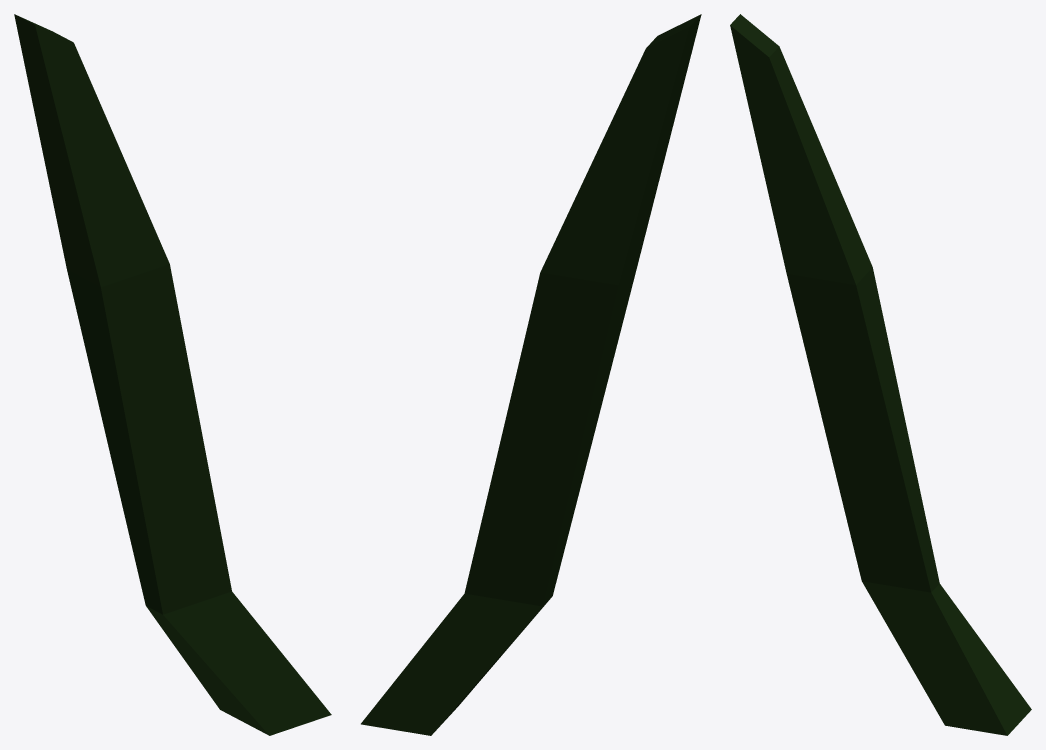
File: g3-green.obj
3 views of the same model, side by side, from view 1: azimuth 30°, elevation 25°; view 2: azimuth 150°, elevation 25°; view 3: azimuth 330°, elevation 25° (orthographic). The views are drawn at different scales.
Parts seen in each view (by area): view 1: g3-green_Cube.006; view 2: g3-green_Cube.006; view 3: g3-green_Cube.006.
Boxes of the visible parts, x1,y1,x2,y2 form: g3-green_Cube.006: [14, 14, 331, 735]; g3-green_Cube.006: [361, 14, 701, 735]; g3-green_Cube.006: [730, 14, 1031, 735].
Size of the model in its own units: 0.8551 by 2 by 0.2585.
